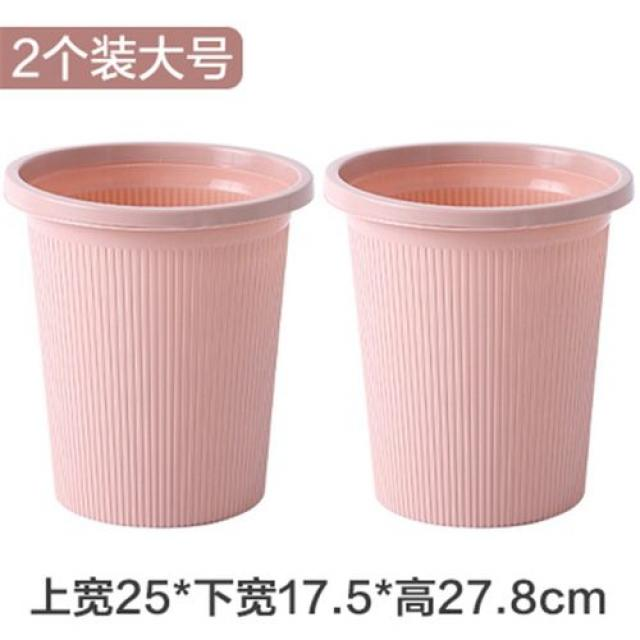Dustbin: (0, 134, 318, 533), (324, 136, 640, 531)
